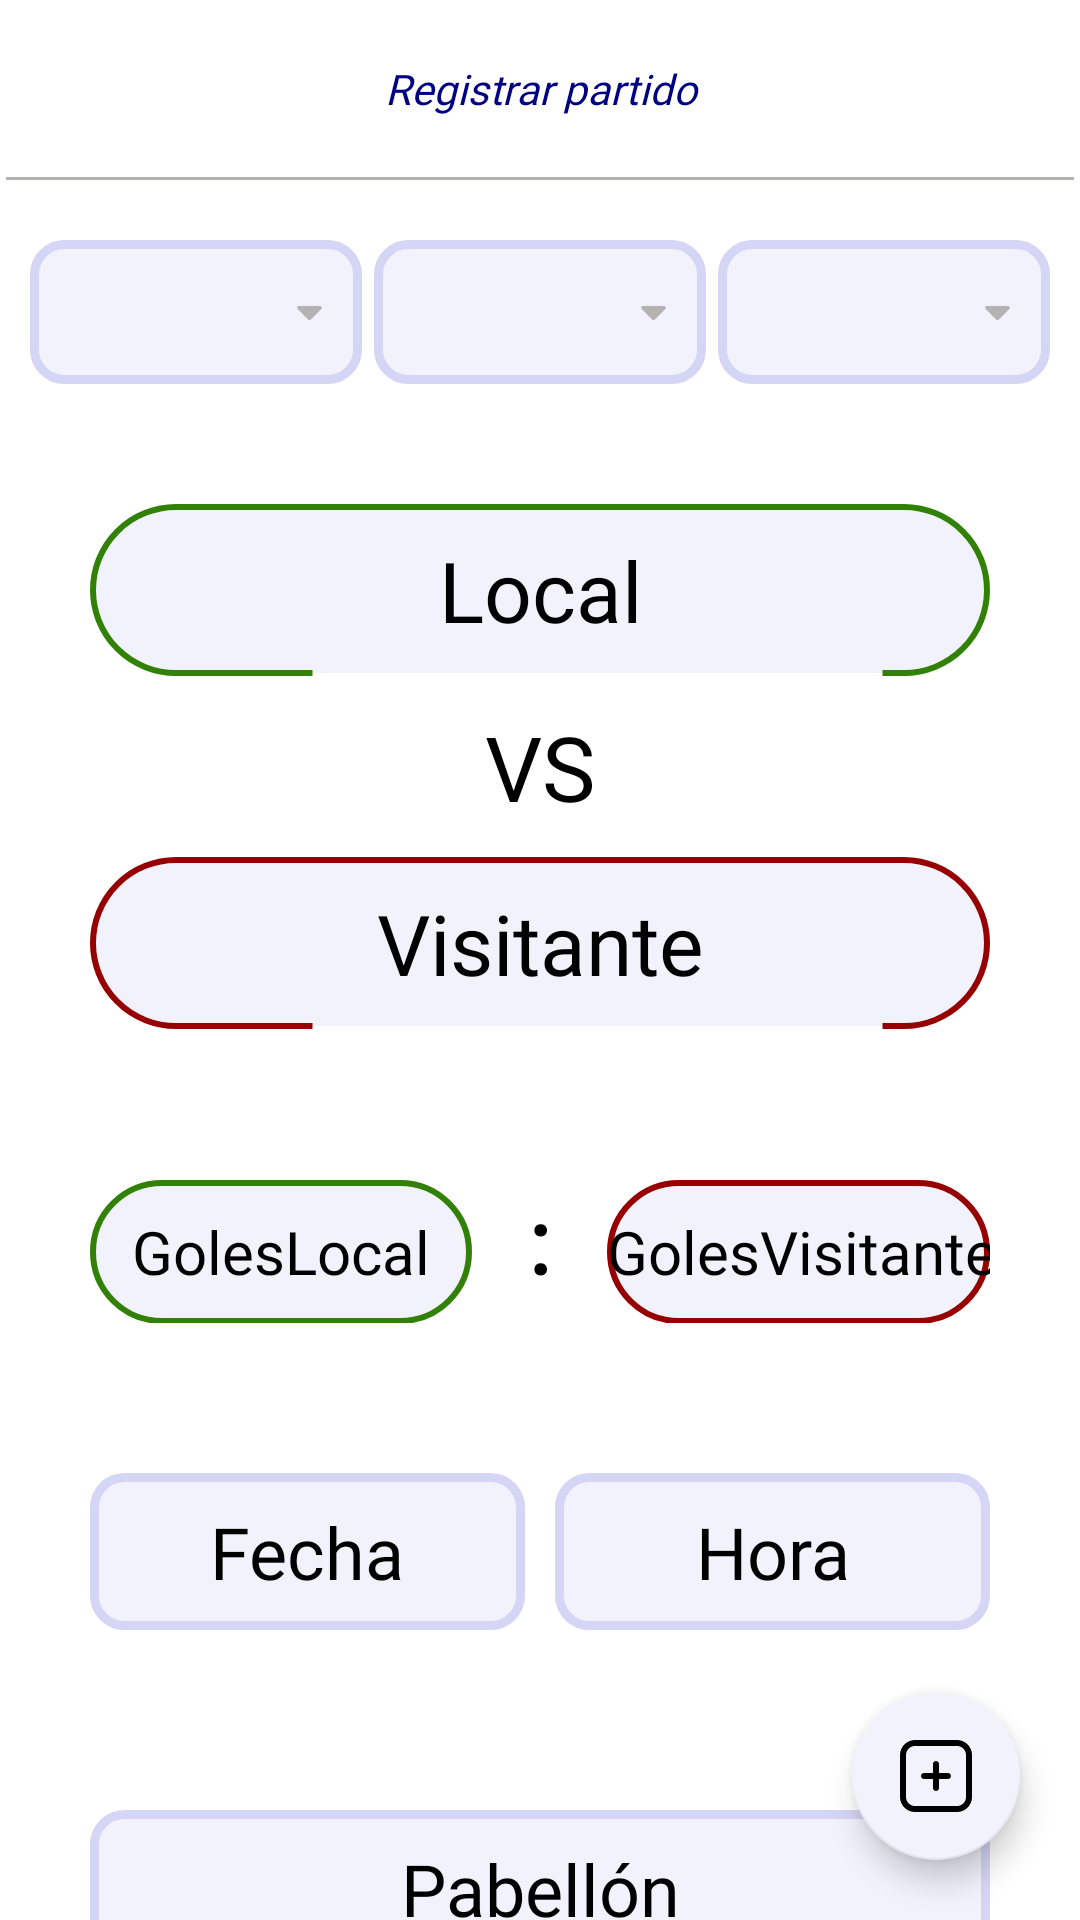

Locate icon controls on the screen. Image size 1080w x 1920h, boxes as (x1, y1, x2, y2).
Agregar datos: (852, 1692, 1020, 1860)
